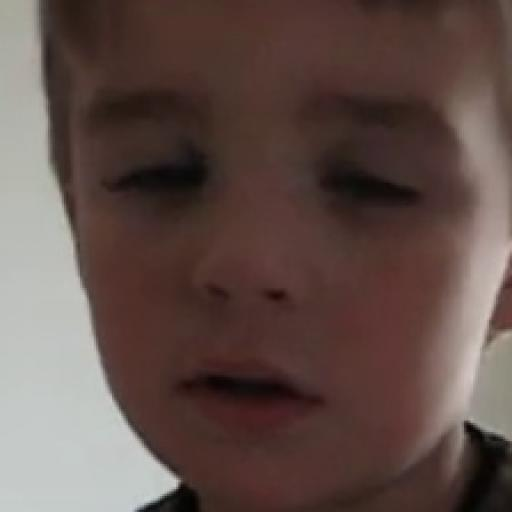Autism: (40, 2, 484, 500)
